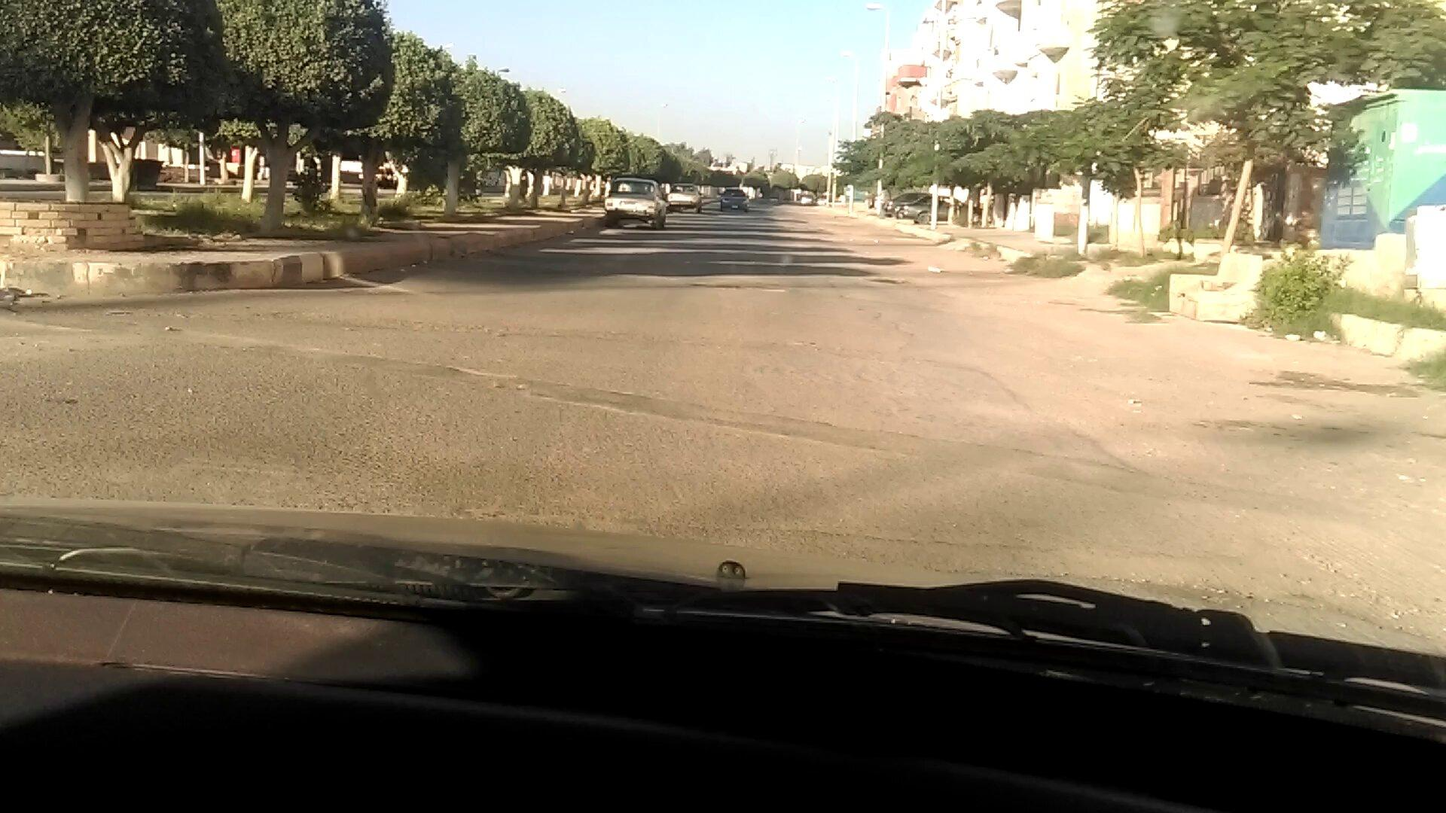Bump: (14, 299, 1444, 547)
